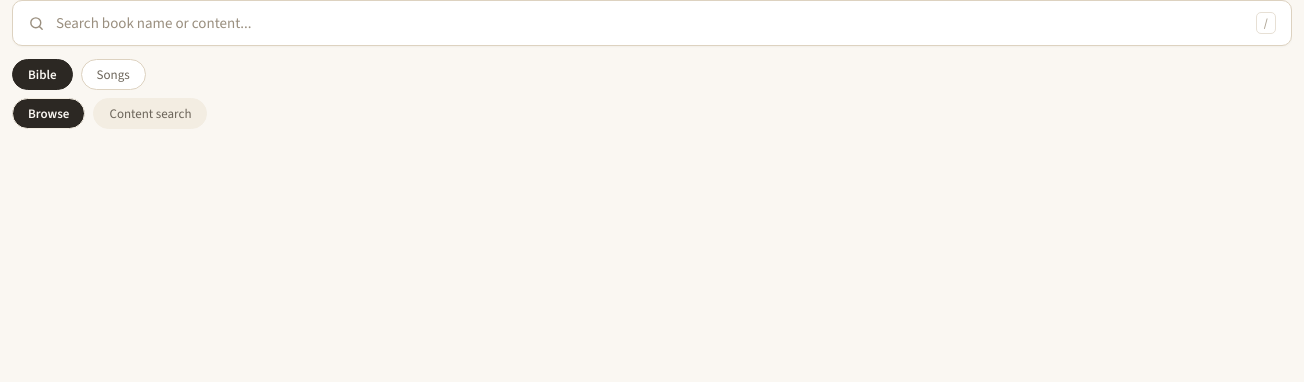
Test case: SearchPanel › ignores a slow chapter fetch for a book that is no longer selected
Step 1. Type "la" into the field with placeholder "Search book name or content..." → (650, 23), box [56, 13, 1245, 33]
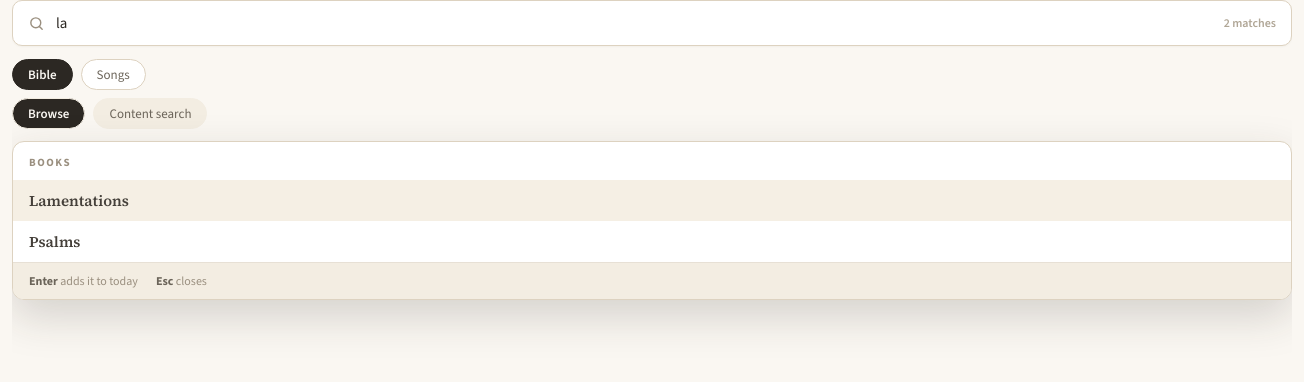
Step 2. Click the button "Lamentations" → (79, 200), box [13, 180, 1291, 221]
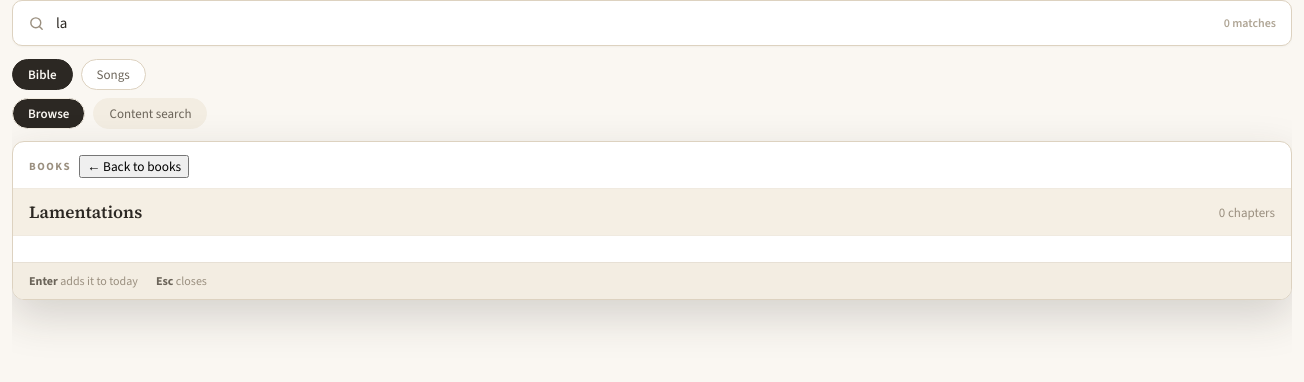
Step 3. Click the button "← Back to books" → (134, 166), box [79, 155, 189, 178]
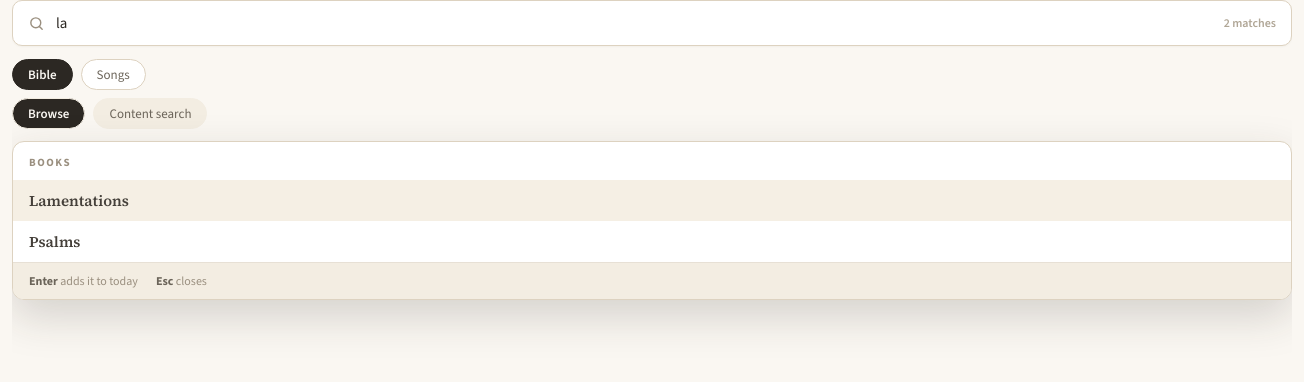
Step 4. Click the button "Psalms" → (55, 242), box [13, 221, 1291, 262]
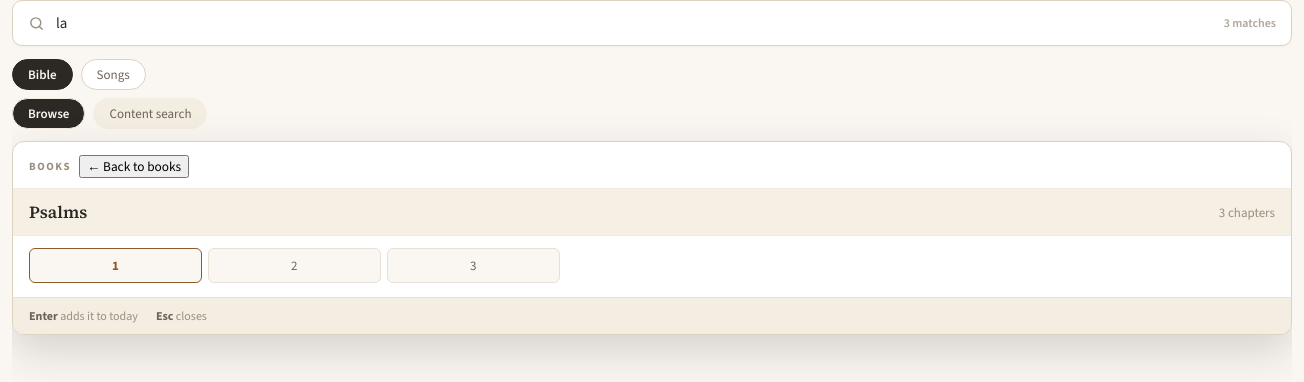
Expected: the button "3" is shown, [387, 248, 560, 283]
